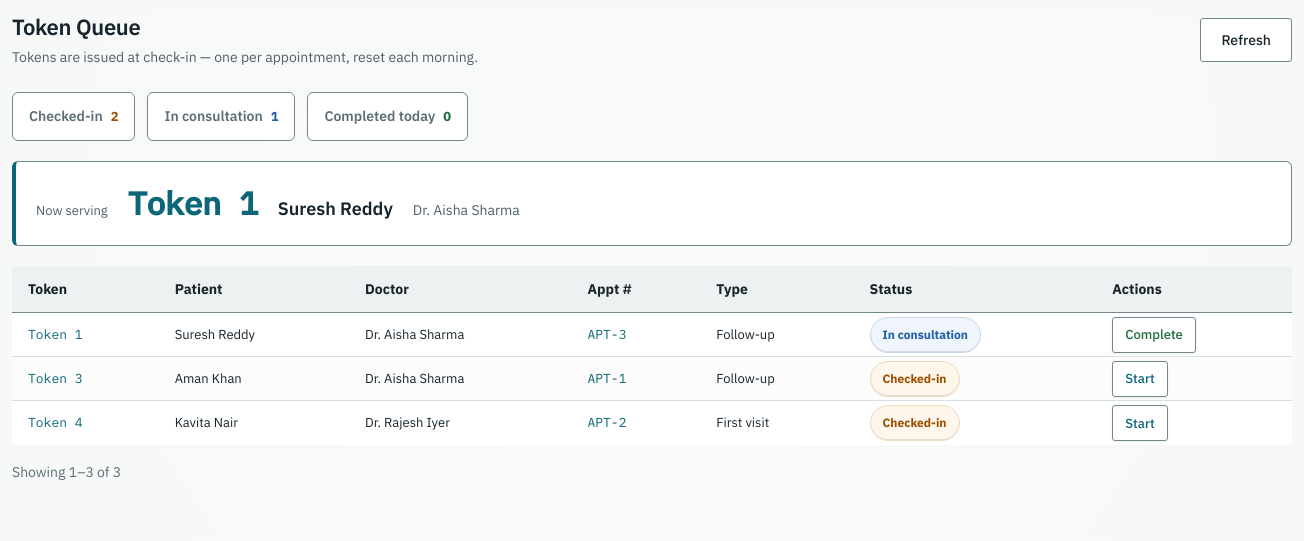
it: Token Queue board › refreshes on demand — the board moves whether or not anyone is watching
Click the button "Refresh" at (1246, 40), box [1200,18,1292,62]
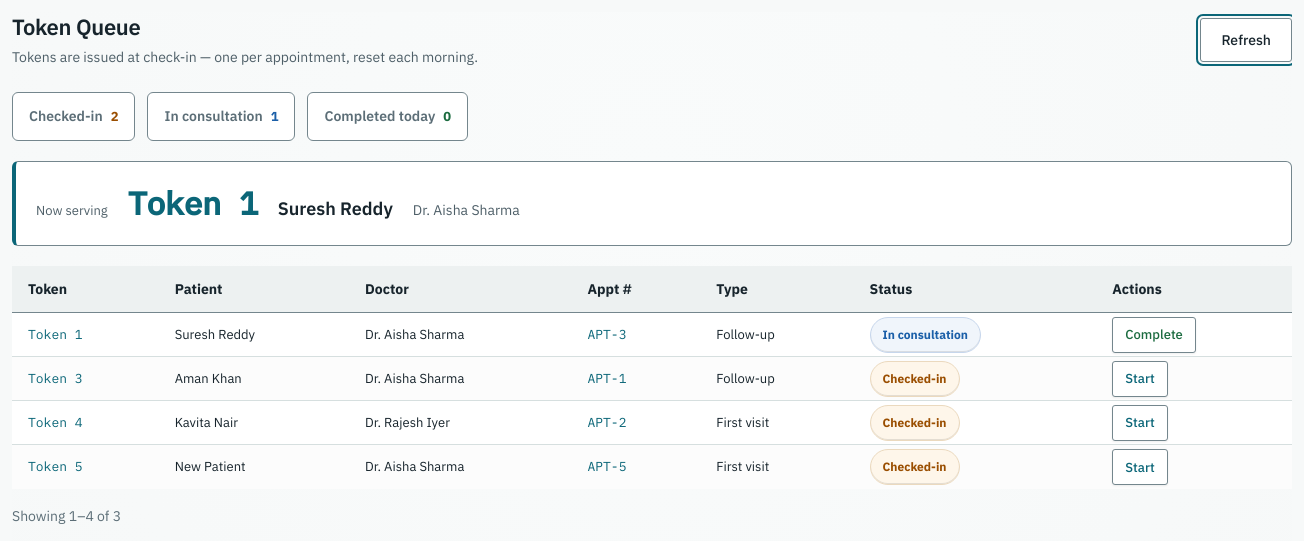
Expected: the text "New Patient" is shown, [159,445,349,489]
